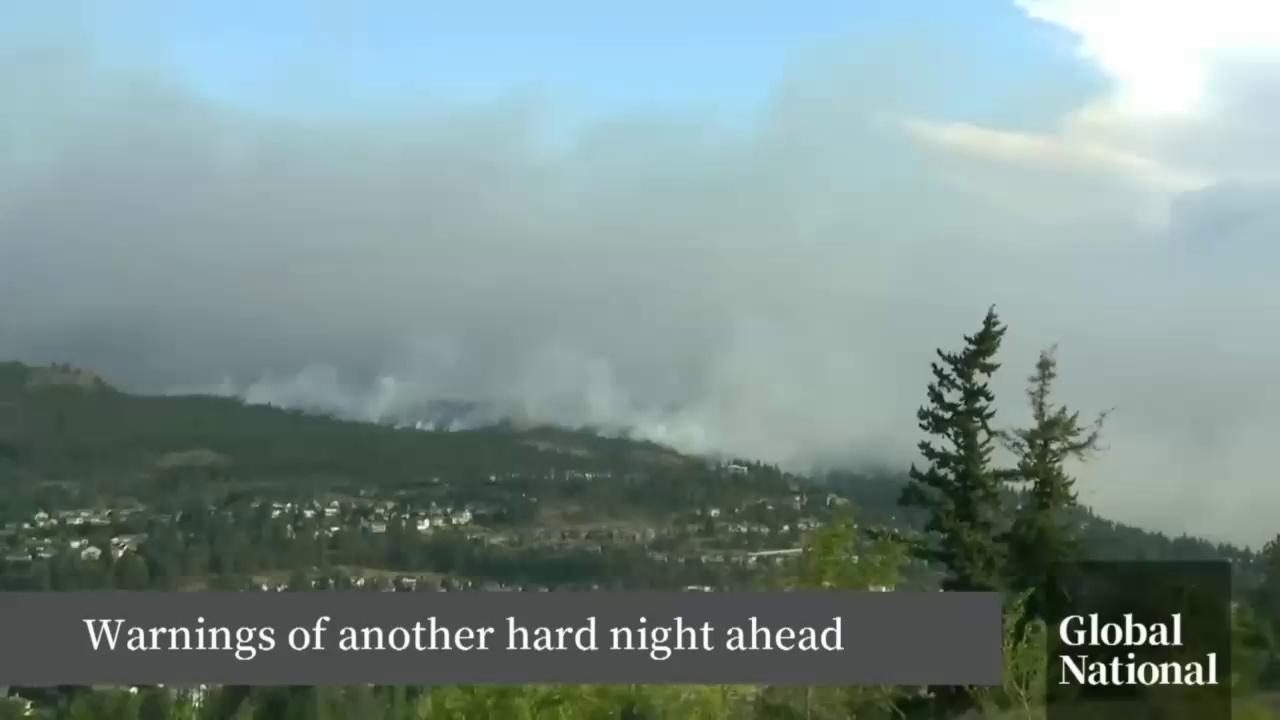smoke: (0, 43, 1280, 556)
